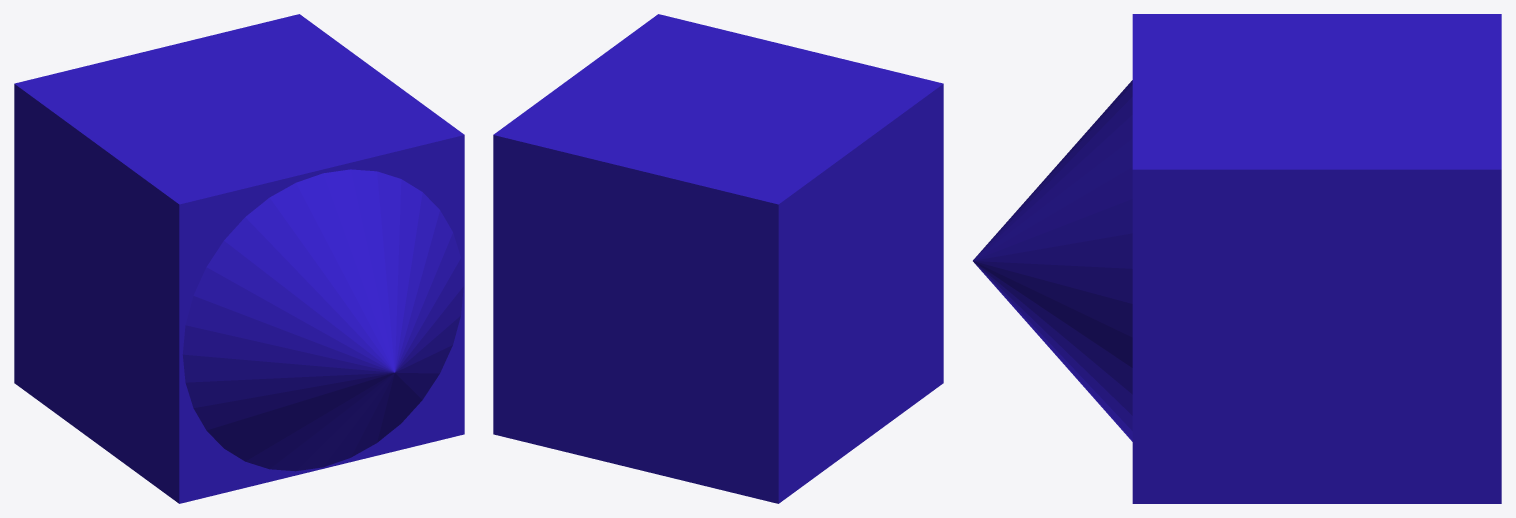
Rendered from player.obj.
3 renders of one model, left to right at view 1: azimuth 30°, elevation 25°; view 2: azimuth 150°, elevation 25°; view 3: azimuth 270°, elevation 25°, orthographic. The views are drawn at different scales.
Parts seen in each view (by area): view 1: 立方体; view 2: 立方体; view 3: 立方体.
Boxes of the visible parts, box(x1,y1,x2,y2) form: 立方体: box(14, 14, 464, 503); 立方体: box(493, 14, 943, 503); 立方体: box(973, 14, 1501, 503).
Bounding box in the file's own units: 1.44 × 1.45 × 2.08.
